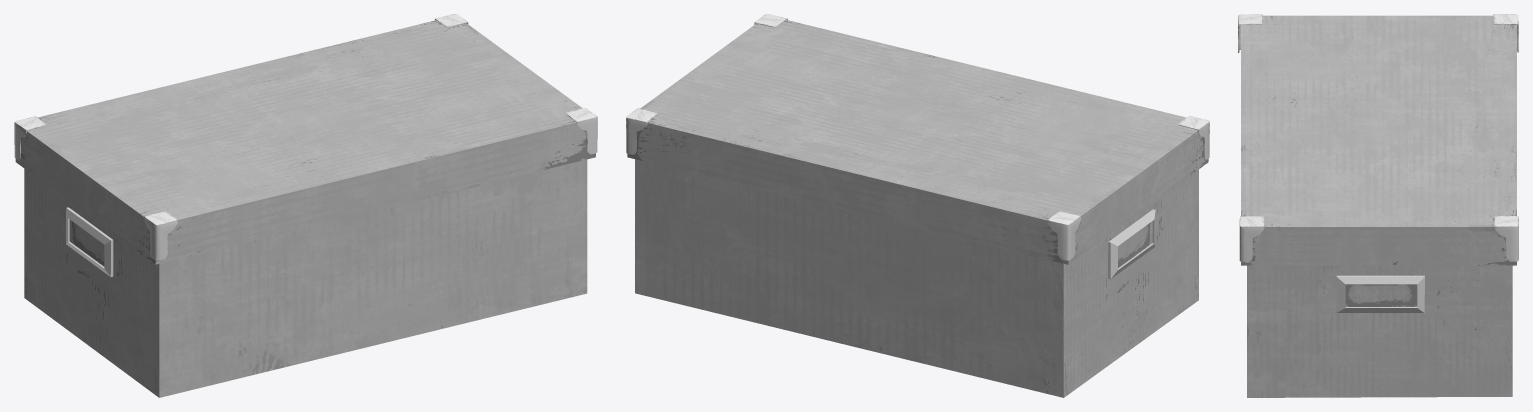
The picture shows the model from 3 angles, left to right: view 1: azimuth 30°, elevation 25°; view 2: azimuth 150°, elevation 25°; view 3: azimuth 270°, elevation 25°; orthographic projection.
Parts seen in each view (by area): view 1: SM_Box_A3; view 2: SM_Box_A3; view 3: SM_Box_A3.
Boxes of the visible parts, x1,y1,x2,y2 form: SM_Box_A3: (14, 14, 597, 397); SM_Box_A3: (626, 14, 1209, 397); SM_Box_A3: (1238, 14, 1518, 397).
Size of the model in its own units: 39.81 by 22.19 by 15.25.
Materials: 1 (1 with a texture image).
